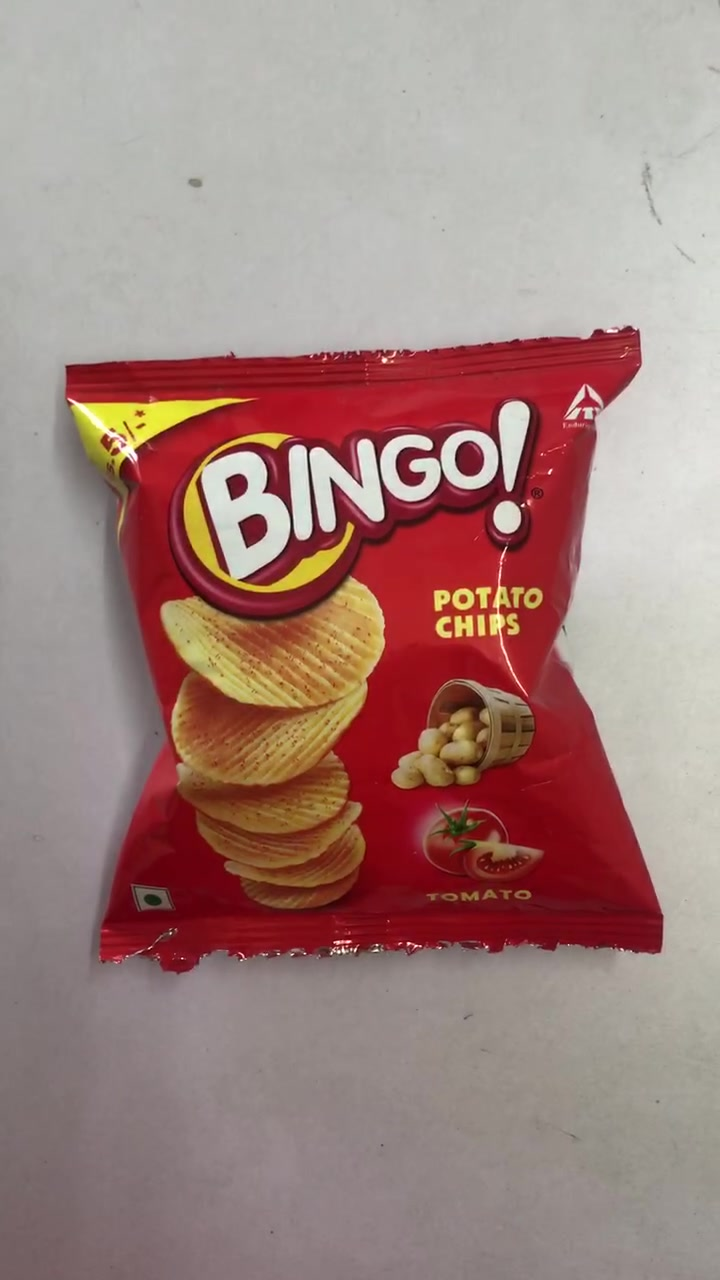Bingo: (76, 359, 655, 943)
